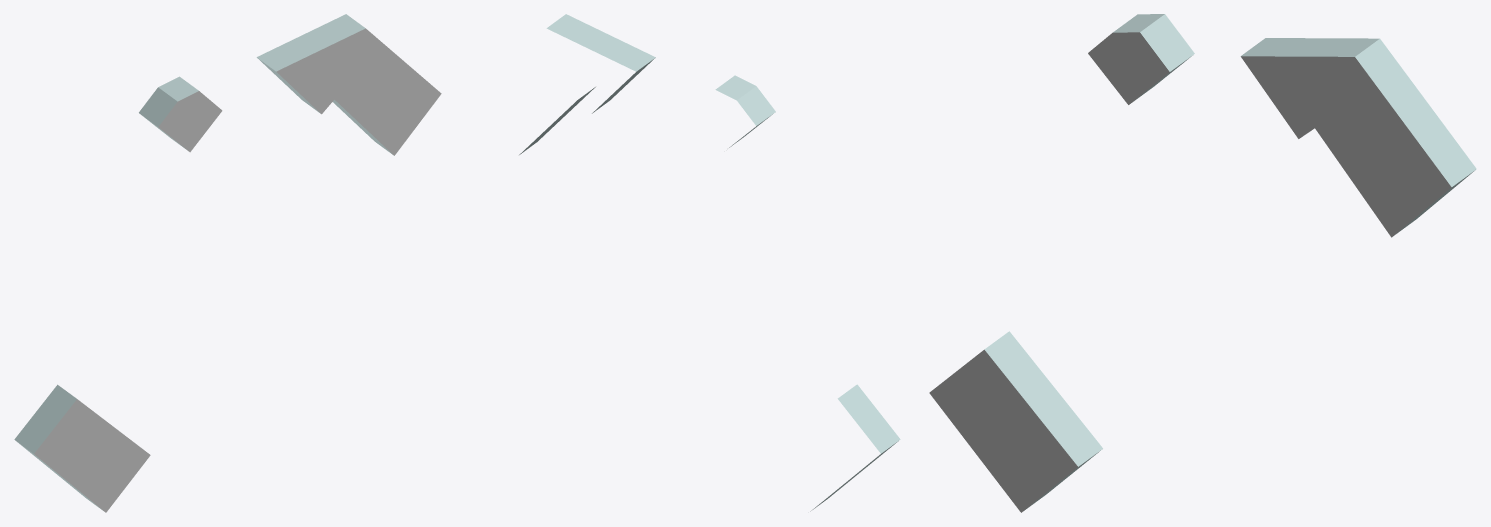
3 renders of one model, left to right at view 1: azimuth 30°, elevation 25°; view 2: azimuth 150°, elevation 25°; view 3: azimuth 330°, elevation 25°, orthographic. The views are drawn at different scales.
Parts seen in each view (by area): view 1: 0_1_2_1_0_3_2_1_2; view 2: 0_1_2_1_0_3_2_1_2; view 3: 0_1_2_1_0_3_2_1_2.
Boxes of the visible parts, x1,y1,x2,y2 form: 0_1_2_1_0_3_2_1_2: [14, 14, 441, 512]; 0_1_2_1_0_3_2_1_2: [519, 14, 900, 511]; 0_1_2_1_0_3_2_1_2: [929, 14, 1476, 512].
Size of the model in its own units: 36 by 35.39 by 3.14.
